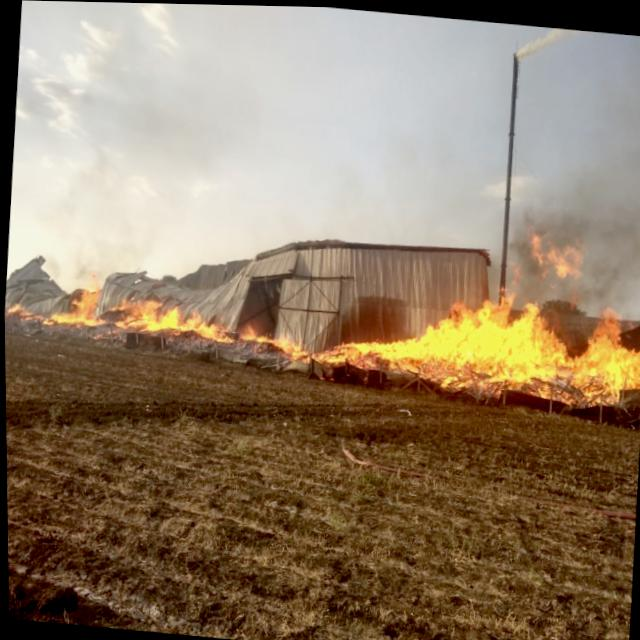Fire: (308, 281, 640, 408), (3, 261, 310, 362)
Smoke: (498, 23, 640, 326)
